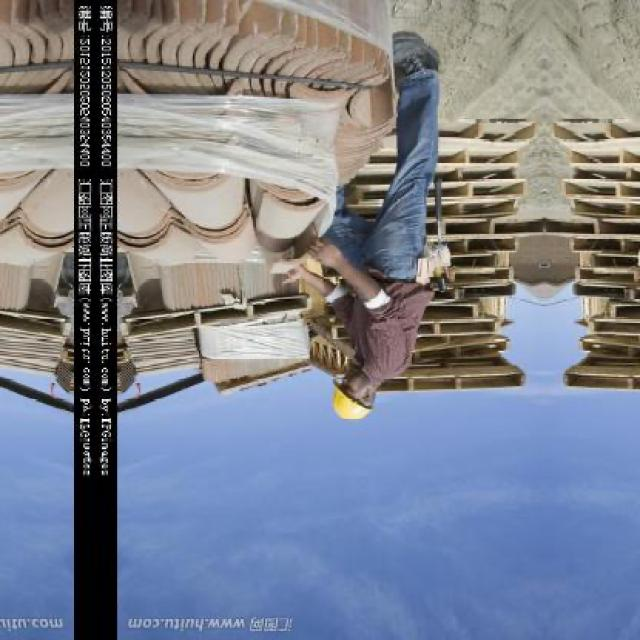con casco: (327, 344, 435, 457)
